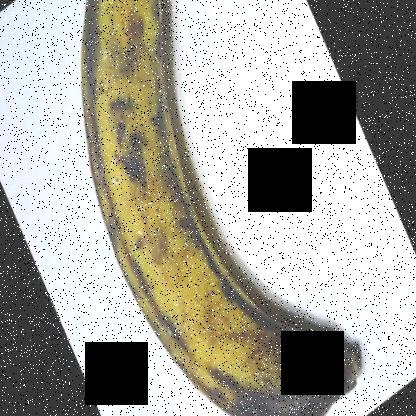overripe: (65, 0, 360, 415)
rotten: (223, 278, 379, 414)
